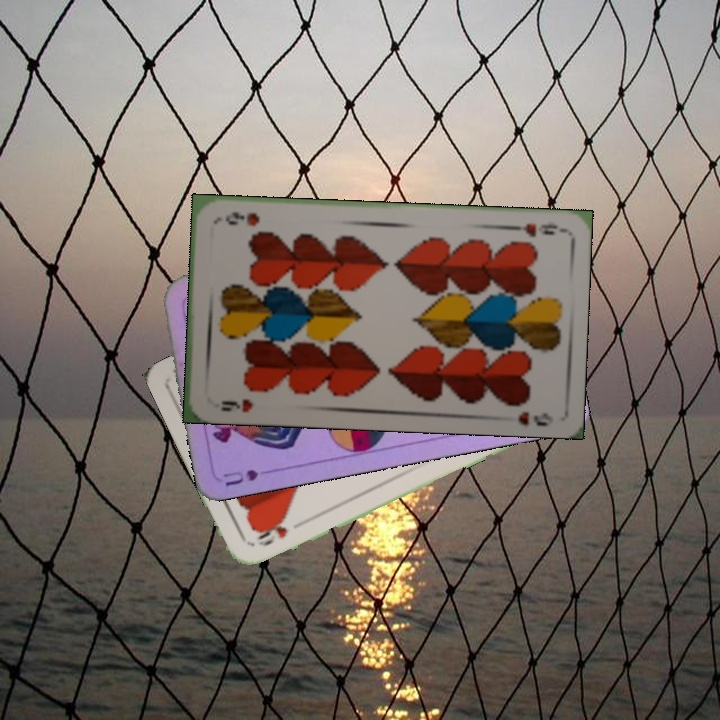H9: (506, 219, 565, 239), (217, 394, 255, 415)
HO: (252, 514, 291, 549)
SU: (219, 465, 261, 489)
